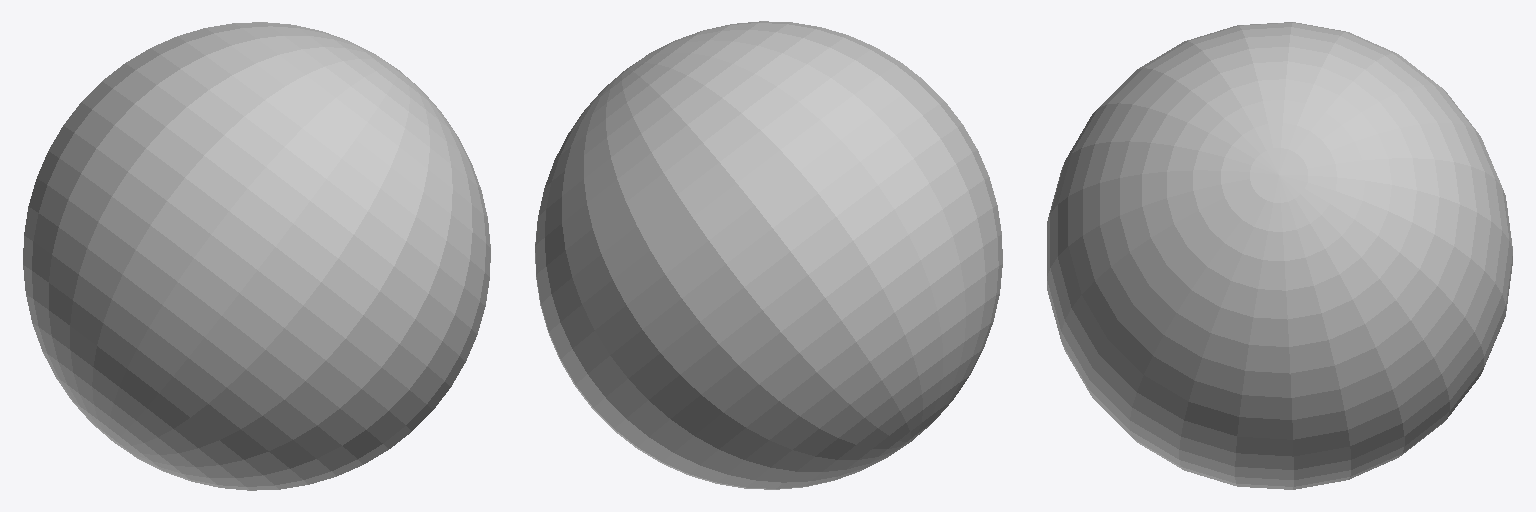
Rendered from CubeWITHAnim0015.obj.
3 views of the same model, side by side, from view 1: azimuth 30°, elevation 25°; view 2: azimuth 150°, elevation 25°; view 3: azimuth 270°, elevation 25° (orthographic).
Parts seen in each view (by area): view 1: NEWJumpBall_Sphere; view 2: NEWJumpBall_Sphere; view 3: NEWJumpBall_Sphere.
Boxes of the visible parts, x1=… form: NEWJumpBall_Sphere: x1=23, y1=22, x2=490, y2=490; NEWJumpBall_Sphere: x1=535, y1=21, x2=1002, y2=489; NEWJumpBall_Sphere: x1=1047, y1=22, x2=1512, y2=489.
Bounding box in the file's own units: 2 × 2 × 1.99.